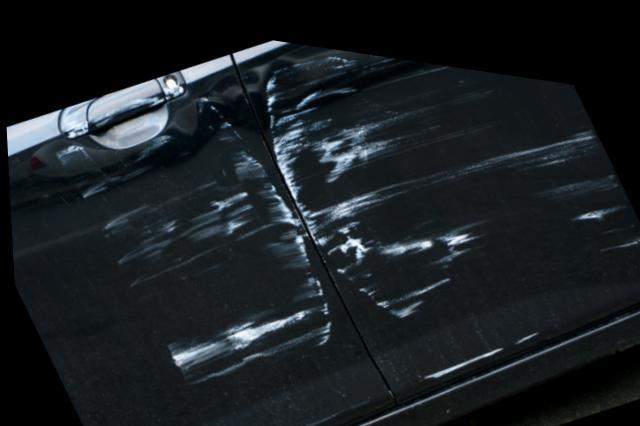scratch: (267, 40, 640, 308), (53, 88, 333, 382), (417, 314, 536, 368)
